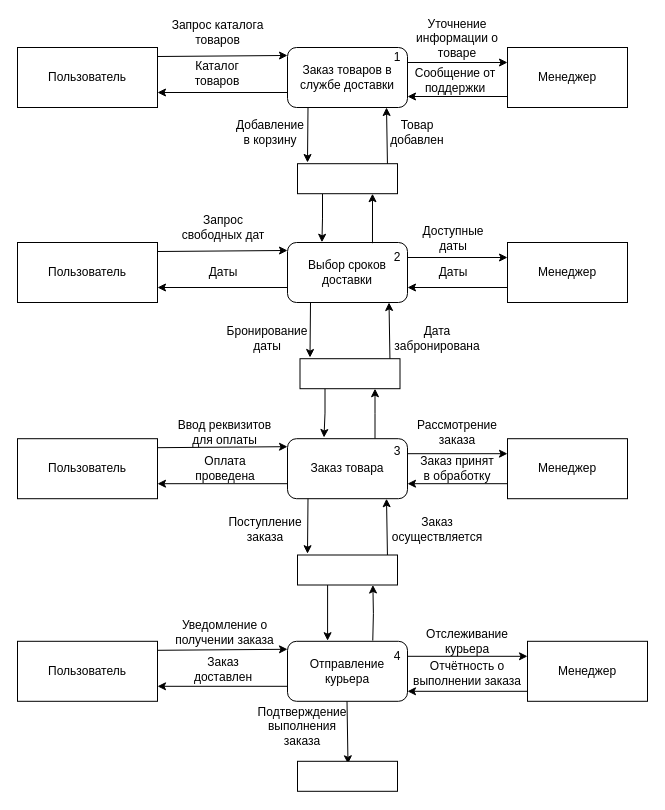
Some shapes in this 665 by 810 pixel diagram are drawn without their labels. The shapes that lost their labels are listed below. From the top down, each one's centre as x and y in pixels, then its label:
(x=347, y=178): БД товаров
(x=349, y=373): БД сроков
(x=347, y=569): БД Заказы
(x=347, y=775): БД Доставки
